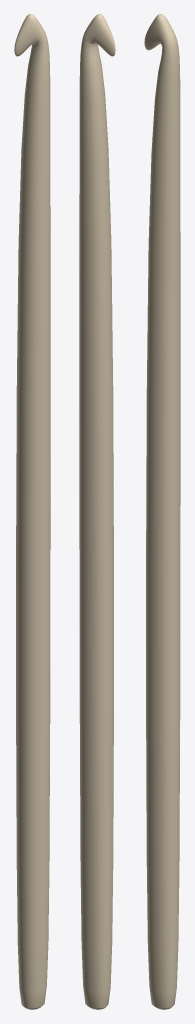
File: Crochet Hook.fbx
The picture shows the model from 3 angles, left to right: view 1: azimuth 30°, elevation 25°; view 2: azimuth 150°, elevation 25°; view 3: azimuth 330°, elevation 25°; orthographic projection.
Visible parts, largest first — view 1: pCube5; view 2: pCube5; view 3: pCube5.
Boxes of the visible parts, bbox=[...] form: pCube5: bbox=[14, 14, 50, 1009]; pCube5: bbox=[79, 14, 115, 1009]; pCube5: bbox=[144, 14, 180, 1009].
Size of the model in its own units: 0.145 by 4.08 by 0.1269.
